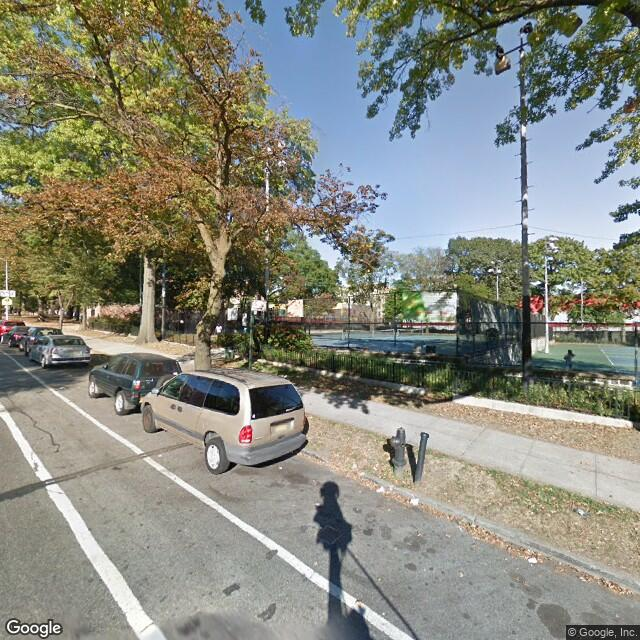litter: (526, 556, 539, 566), (573, 508, 585, 516), (408, 499, 421, 506), (575, 574, 585, 581), (278, 465, 288, 470), (376, 485, 382, 493), (315, 500, 320, 507), (596, 510, 602, 515), (155, 451, 158, 457)
